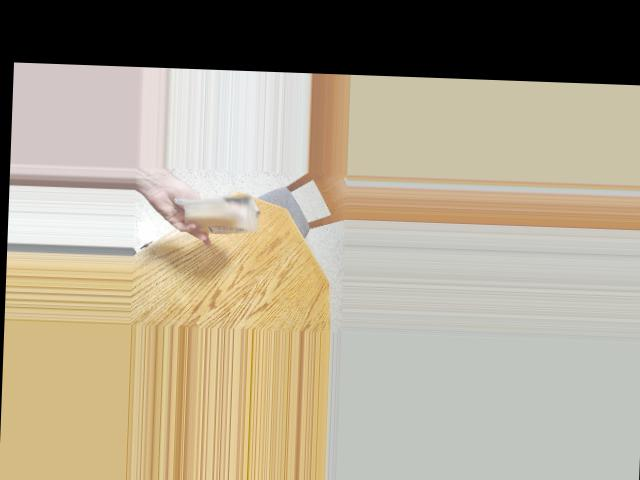cheese: (180, 186, 257, 243)
